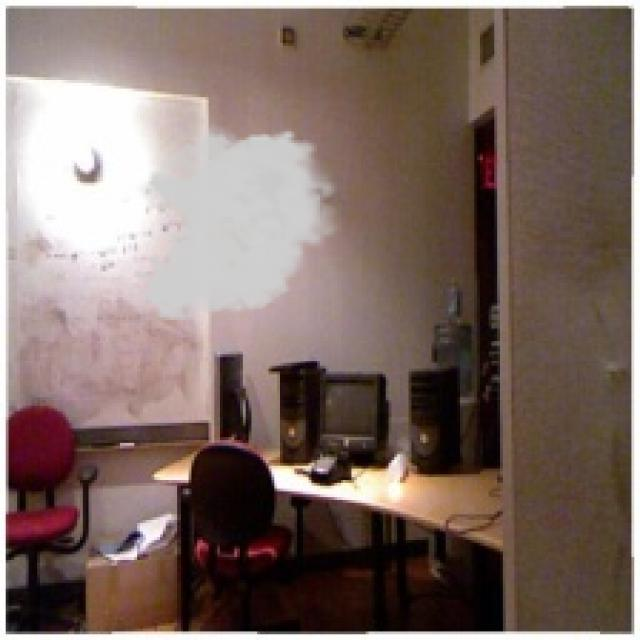smoke: (134, 117, 346, 323)
